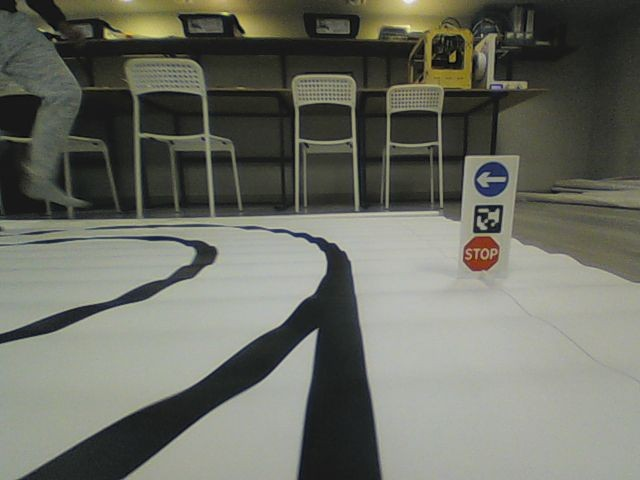Stop: (462, 235, 500, 273)
